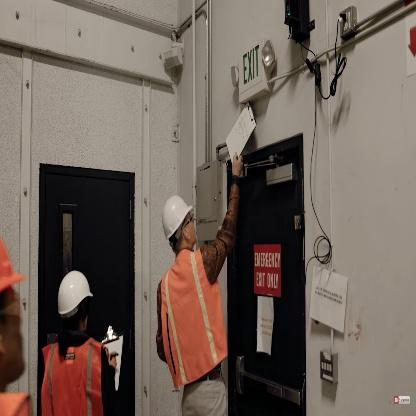helmet: (53, 265, 108, 358), (154, 190, 207, 256)
